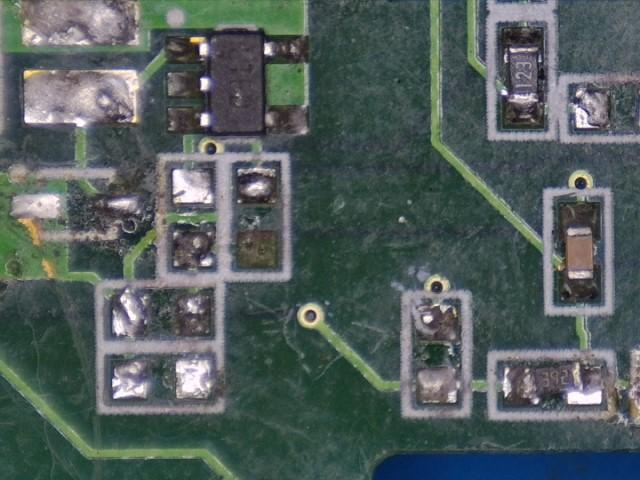pcb_defect: (503, 360, 603, 405)
